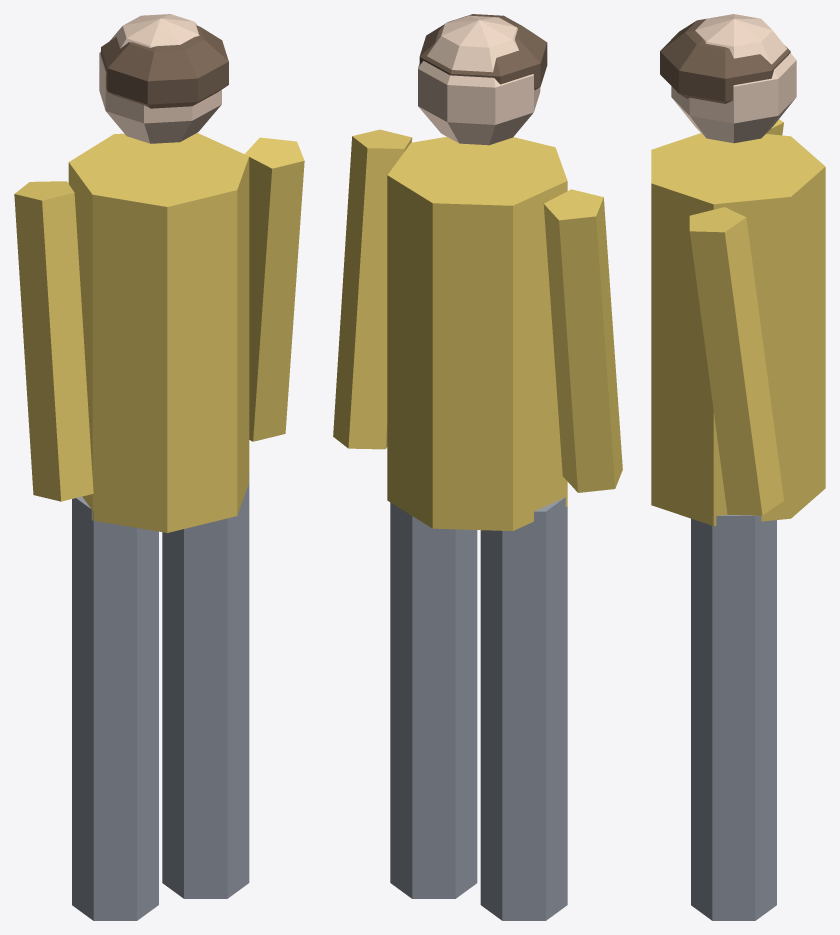
The model's file is ped_3.glb.
The picture shows the model from 3 angles, left to right: view 1: azimuth 30°, elevation 25°; view 2: azimuth 150°, elevation 25°; view 3: azimuth 270°, elevation 25°; orthographic projection.
Visible parts, largest first — view 1: ped_3; view 2: ped_3; view 3: ped_3.
Part boxes in pixels (bbox=[...]): ped_3: bbox=[14, 14, 304, 920]; ped_3: bbox=[333, 14, 622, 920]; ped_3: bbox=[651, 14, 825, 920].
Bounding box in the file's own units: 0.5246 × 1.67 × 0.3042.
